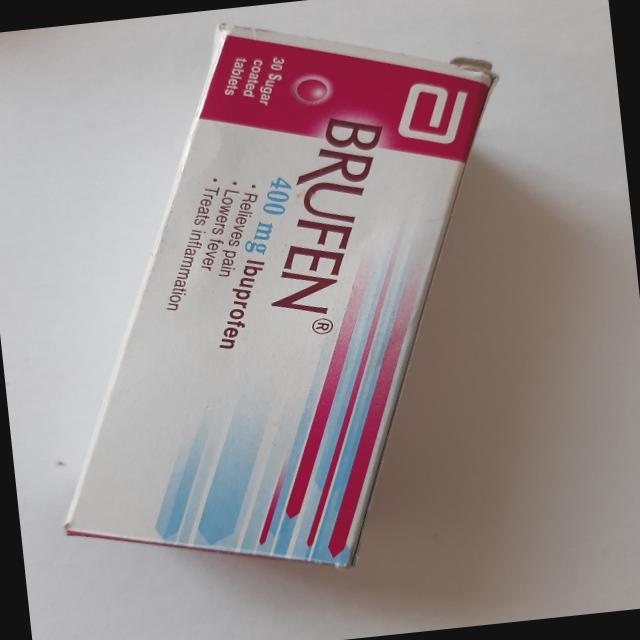medicine_packaging: (9, 0, 560, 621)
